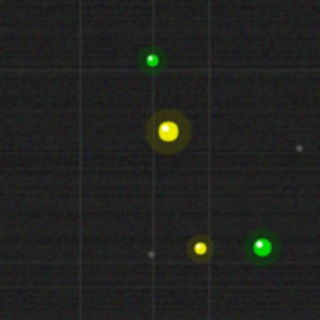green_normal: (251, 236, 273, 258), (144, 52, 160, 68)
yellow_warning: (156, 119, 180, 143), (192, 240, 208, 256)
